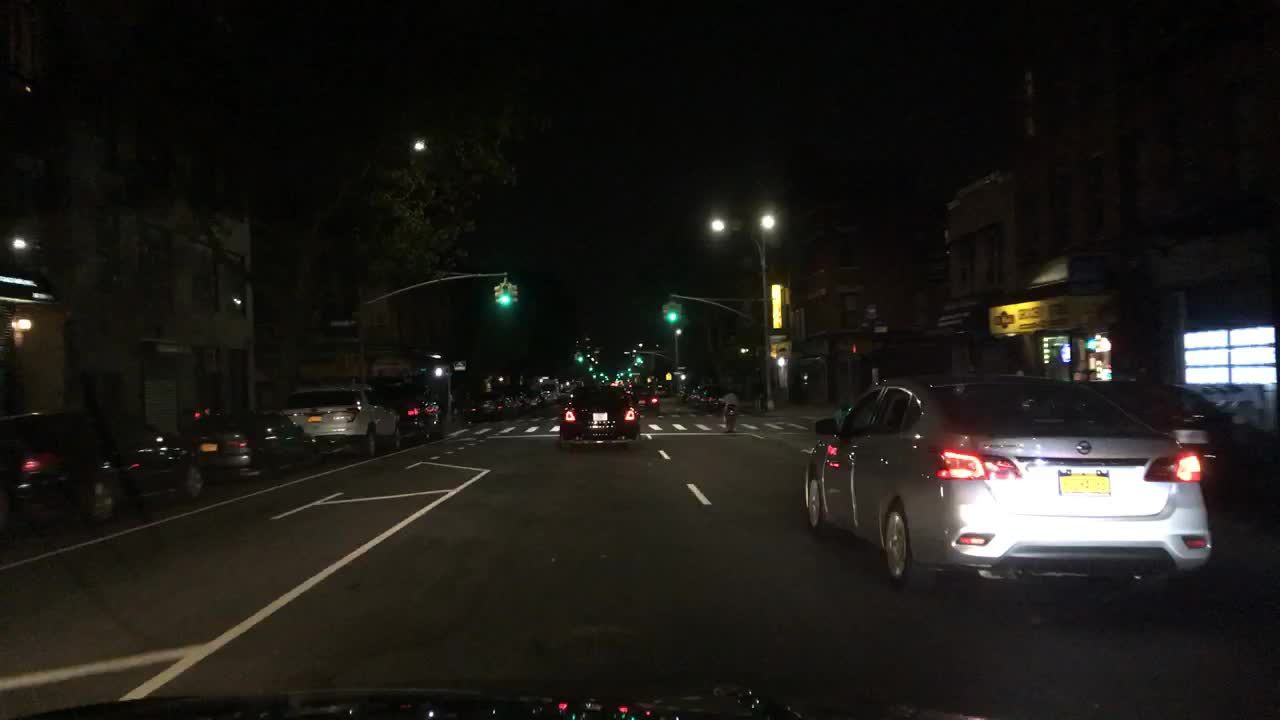car: (800, 372, 1213, 602), (1, 402, 206, 528), (1080, 377, 1217, 516), (185, 396, 308, 484), (278, 383, 399, 460), (556, 382, 644, 449), (387, 385, 443, 444), (628, 385, 660, 417), (694, 386, 732, 411), (485, 395, 520, 416), (449, 404, 476, 426), (679, 382, 704, 404), (520, 388, 545, 407), (542, 378, 561, 402), (559, 376, 574, 390), (610, 378, 628, 388), (657, 384, 669, 398), (573, 378, 585, 390), (634, 354, 642, 368)
person: (718, 384, 740, 436)
traffic light: (500, 282, 513, 310), (666, 304, 679, 327), (510, 282, 520, 308), (493, 284, 503, 305), (431, 366, 446, 380), (575, 350, 585, 363)
traffic sign: (453, 360, 466, 371), (665, 371, 674, 383)
